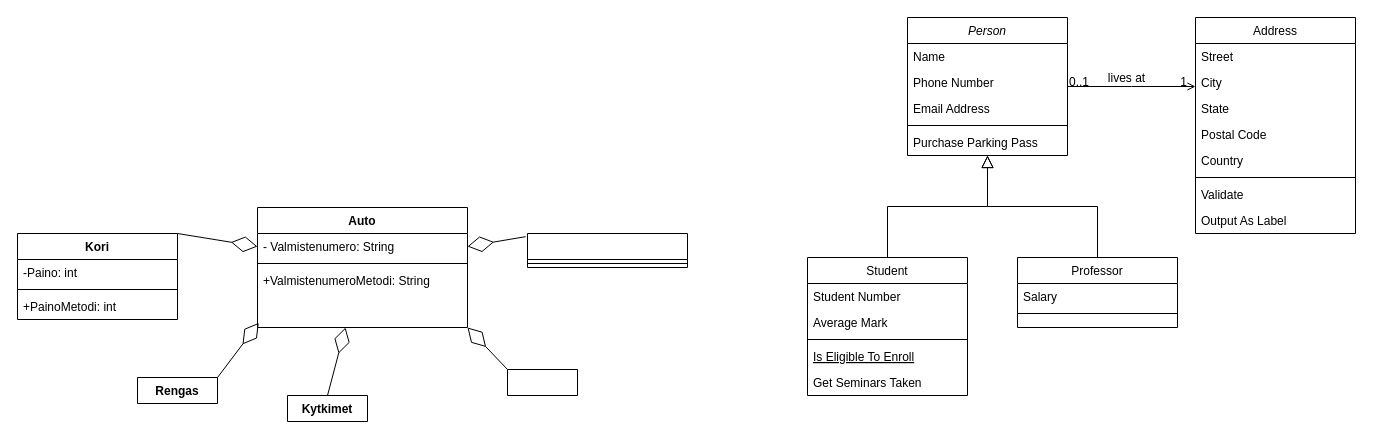
The diagram is 1373 pixels wide and 439 high, and some of its shapes have lost their labels. The centre of each missing label's shape, as x and y in pixels:
Alusta: the point at 542,382
Moottori: the point at 607,250
